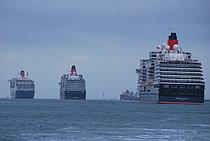Ship: (135, 30, 210, 108), (59, 62, 92, 102), (6, 70, 40, 103)
